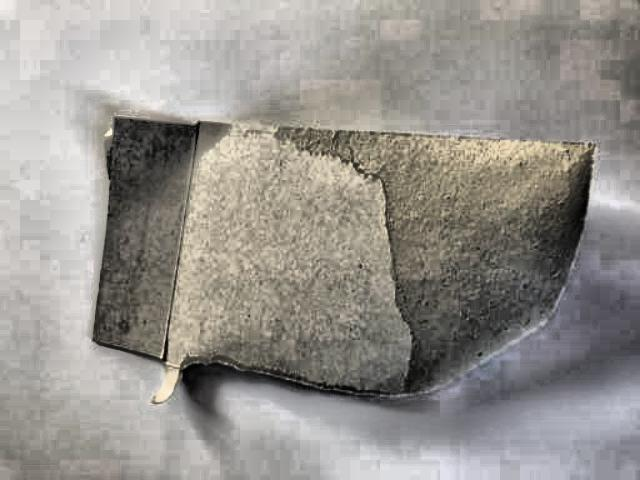Paper: (105, 112, 588, 418)
